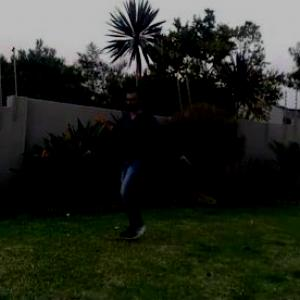land: (90, 62, 212, 262)
